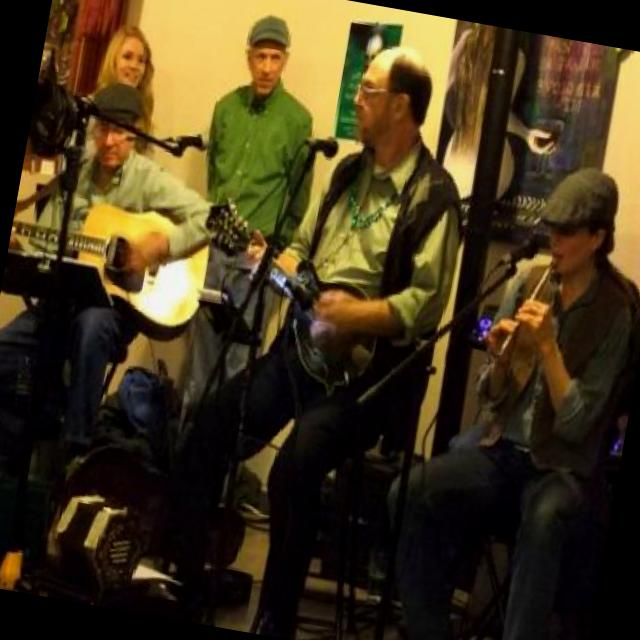Person: (147, 19, 494, 640), (407, 151, 640, 640), (0, 54, 245, 519), (169, 11, 335, 410), (53, 16, 173, 198)
